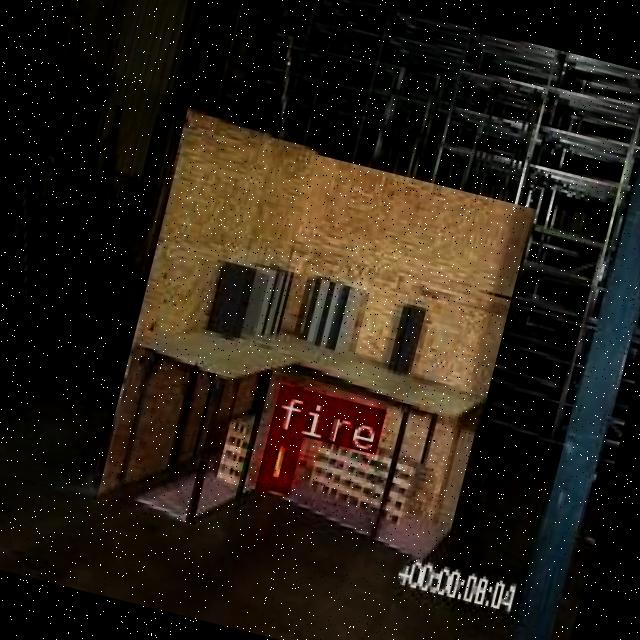fire: (254, 426, 299, 488)
